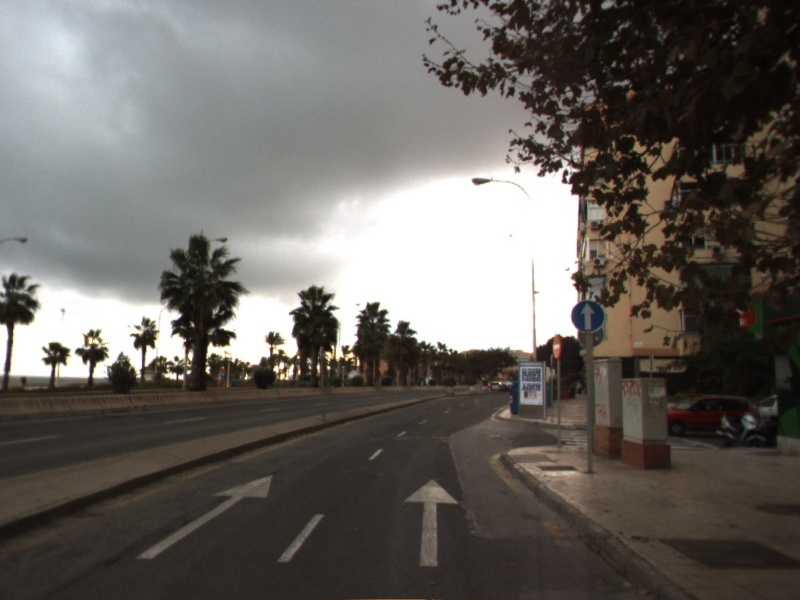STRAIGHT: (134, 473, 274, 560), (402, 478, 461, 568)
